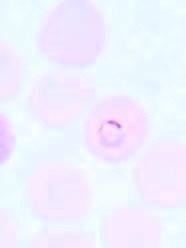Infected: (84, 95, 150, 163)
